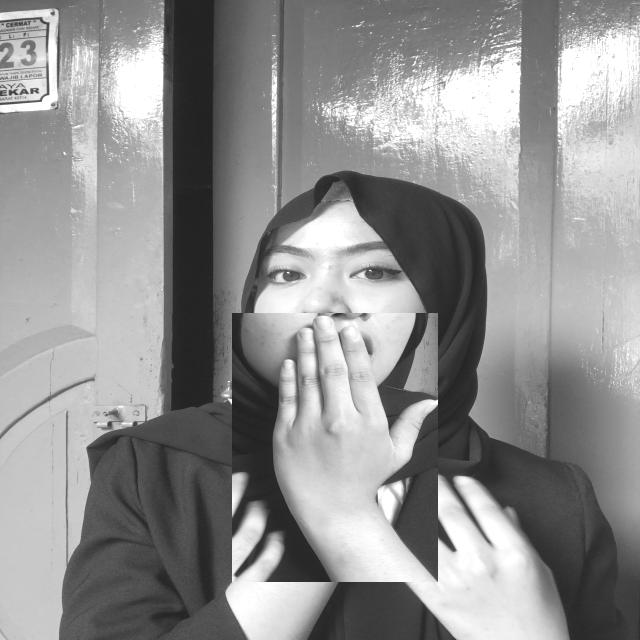ngantuk: (232, 313, 438, 582)
